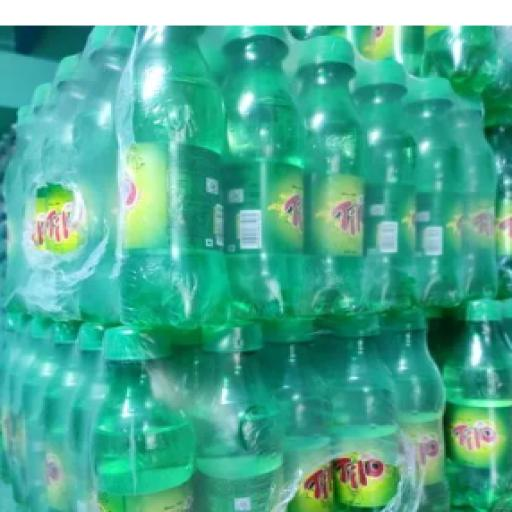Sprite: (122, 26, 225, 325), (224, 26, 307, 318), (56, 28, 134, 324), (92, 326, 195, 511), (317, 314, 413, 511), (298, 37, 366, 313), (192, 323, 286, 511), (353, 62, 417, 310), (443, 299, 511, 511), (378, 310, 449, 511), (262, 320, 332, 511), (405, 79, 463, 306), (6, 83, 53, 310), (38, 55, 89, 252), (448, 95, 497, 300), (43, 325, 84, 511), (22, 323, 60, 511), (312, 329, 341, 388)
